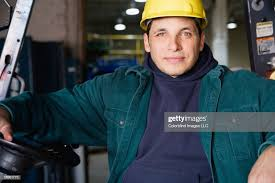Person_wearing_helmet: (130, 0, 212, 43)
